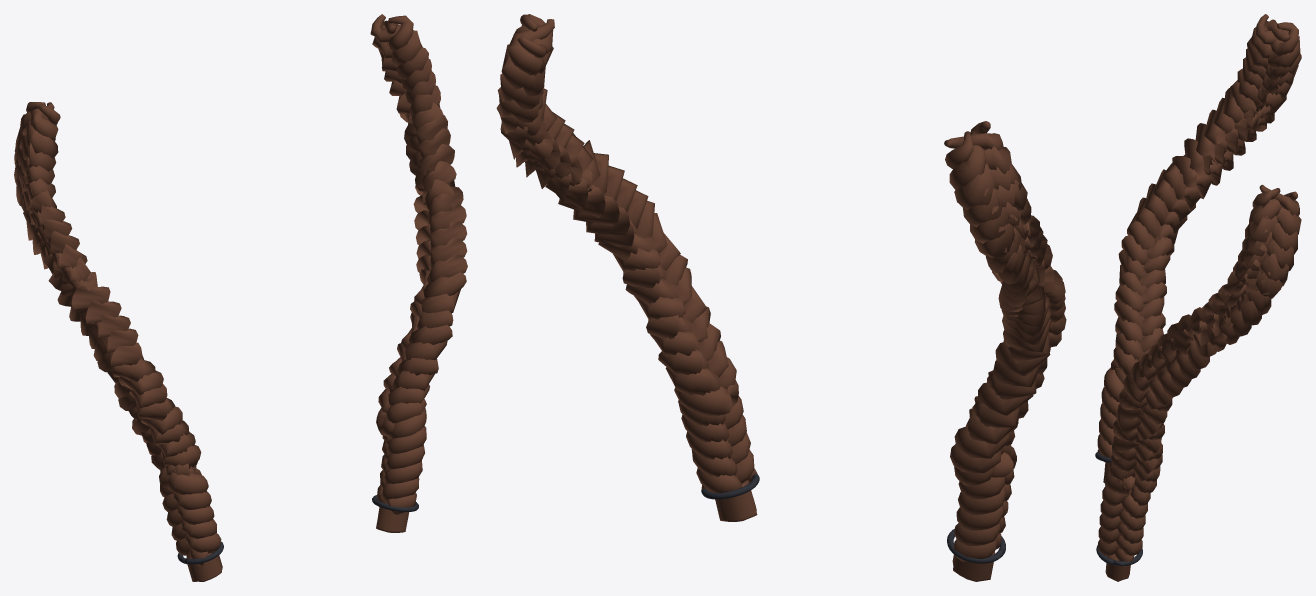
File: Feminine-twin-braids-strappy-pashmina-lengths251.glb
3 views of the same model, side by side, from view 1: azimuth 30°, elevation 25°; view 2: azimuth 150°, elevation 25°; view 3: azimuth 270°, elevation 25° (orthographic). The views are drawn at different scales.
Parts seen in each view (by area): view 1: 226 hairLengths / Hair / chestnut226, 226 hairLengths / Hair / ties226; view 2: 226 hairLengths / Hair / chestnut226, 226 hairLengths / Hair / ties226; view 3: 226 hairLengths / Hair / chestnut226, 226 hairLengths / Hair / ties226.
Boxes of the visible parts, x1,y1,x2,y2 form: 226 hairLengths / Hair / chestnut226: [14, 14, 467, 581]; 226 hairLengths / Hair / ties226: [177, 495, 418, 564]; 226 hairLengths / Hair / chestnut226: [496, 14, 1066, 581]; 226 hairLengths / Hair / ties226: [701, 474, 1005, 563]; 226 hairLengths / Hair / chestnut226: [1097, 14, 1301, 581]; 226 hairLengths / Hair / ties226: [1095, 452, 1142, 566].
Size of the model in its own units: 1.03 by 1.06 by 0.4591.
